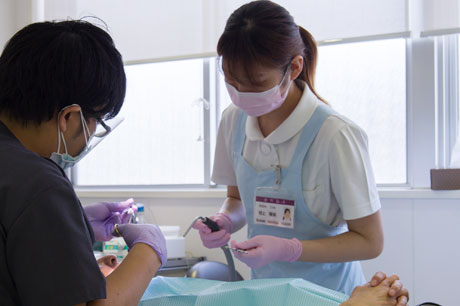mask: (226, 84, 285, 117)
